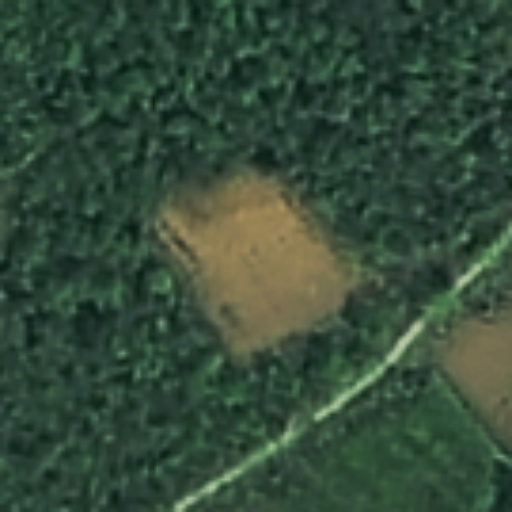landslide: (166, 180, 346, 346)
